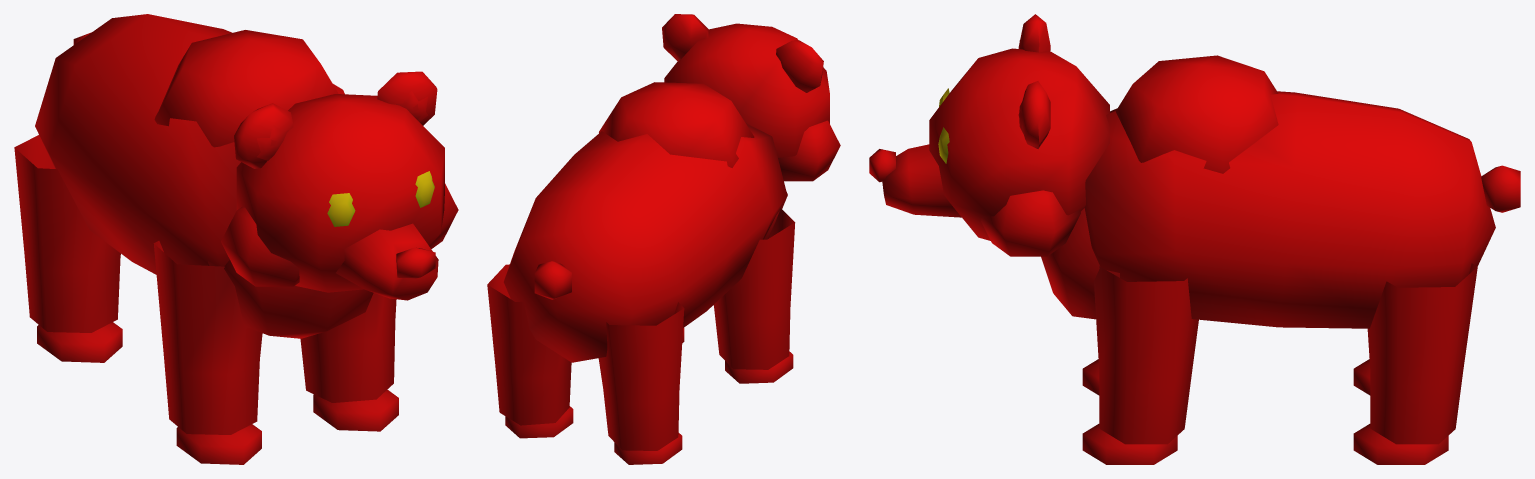
File: BearAnimal_LOD1.glb
3 renders of one model, left to right at view 1: azimuth 30°, elevation 25°; view 2: azimuth 150°, elevation 25°; view 3: azimuth 270°, elevation 25°, orthographic. The views are drawn at different scales.
Parts seen in each view (by area): view 1: BearAnimal_LOD1; view 2: BearAnimal_LOD1; view 3: BearAnimal_LOD1.
Boxes of the visible parts, x1,y1,x2,y2 form: BearAnimal_LOD1: (14,14,458,464); BearAnimal_LOD1: (487,14,840,464); BearAnimal_LOD1: (869,14,1520,464).
Bounding box in the file's own units: 0.4319 × 0.7015 × 1.12.
